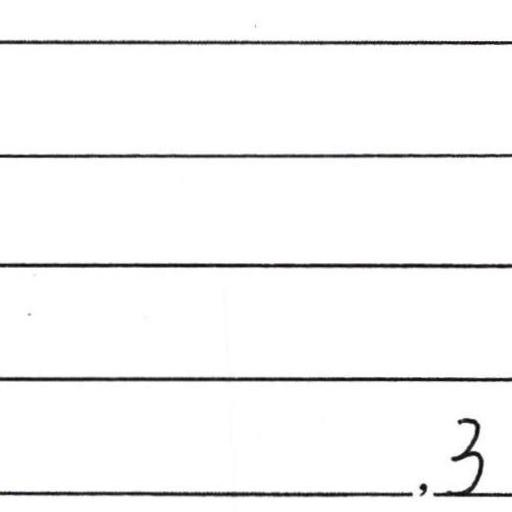ans: (440, 410, 488, 495)
